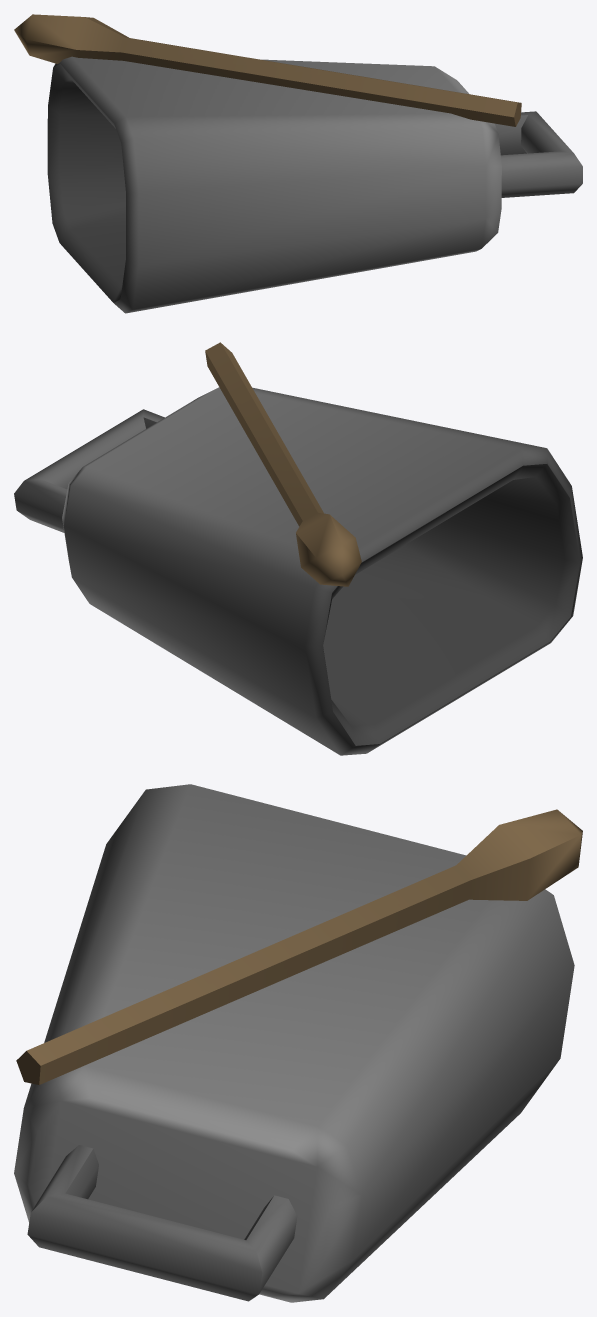
File: hat_cowbell.glb
3 renders of one model, top to bottom at view 1: azimuth 30°, elevation 25°; view 2: azimuth 150°, elevation 25°; view 3: azimuth 270°, elevation 25°, orthographic. The views are drawn at different scales.
Parts seen in each view (by area): view 1: hat_cowbell; view 2: hat_cowbell; view 3: hat_cowbell.
Boxes of the visible parts, left/top/right/bottom form: hat_cowbell: left=14, top=14, right=582, bottom=313; hat_cowbell: left=14, top=342, right=582, bottom=755; hat_cowbell: left=14, top=784, right=582, bottom=1302.
Bounding box in the file's own units: 0.3051 × 0.1368 × 0.2263.
